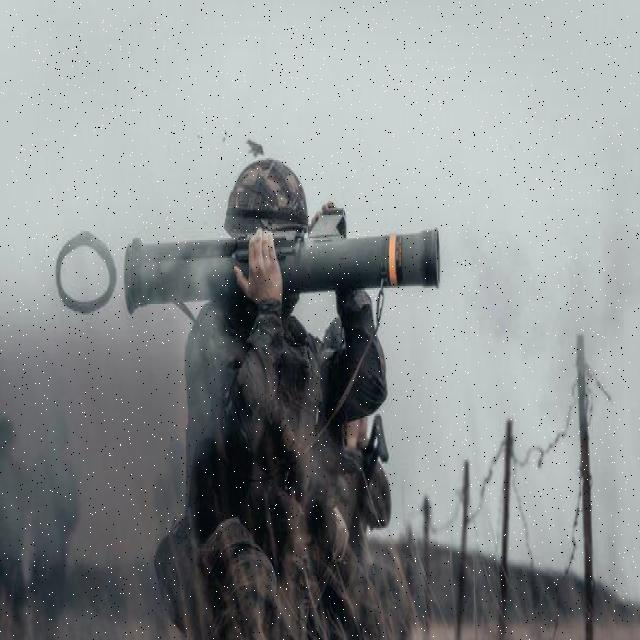bazooka: (119, 221, 448, 318)
